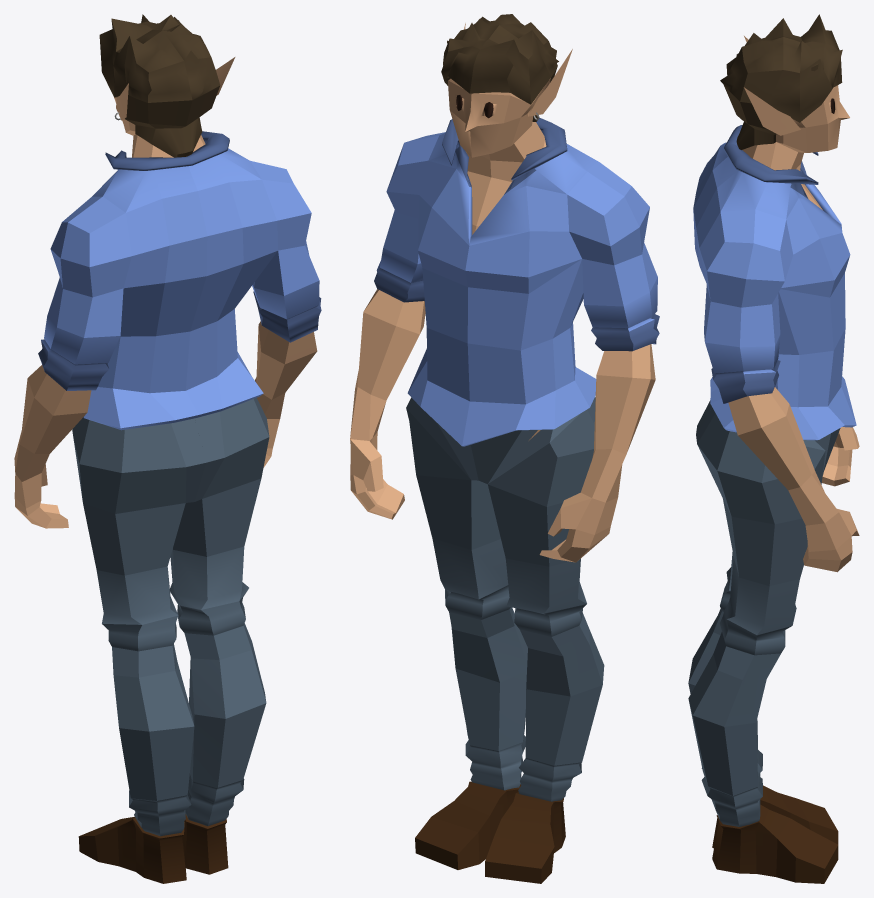
The model's file is player.fbx.
The picture shows the model from 3 angles, left to right: view 1: azimuth 30°, elevation 25°; view 2: azimuth 150°, elevation 25°; view 3: azimuth 270°, elevation 25°; orthographic projection.
Visible parts, largest first — view 1: Cube.005; view 2: Cube.005; view 3: Cube.005.
Part boxes in pixels (x1,y1,x2,y2): Cube.005: (14,14,321,883); Cube.005: (350,14,659,883); Cube.005: (688,14,859,883).
Bounding box in the file's own units: 200 × 570 × 107.
